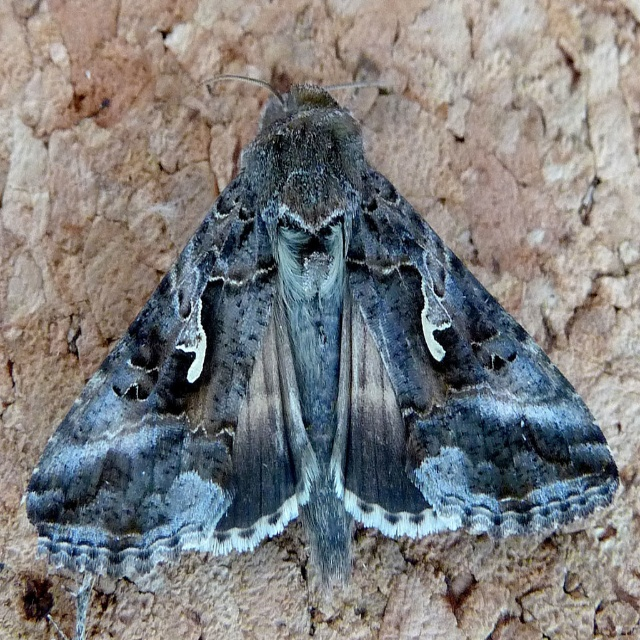Moths and butterflies: (24, 67, 624, 598)
